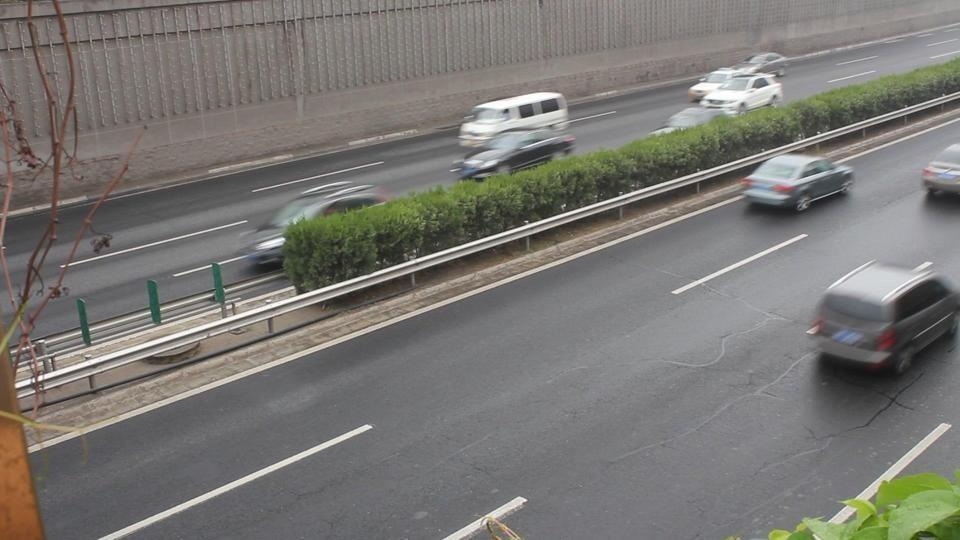car: (805, 258, 960, 377), (246, 183, 391, 272), (740, 152, 856, 213), (458, 92, 573, 153), (457, 128, 577, 181), (689, 71, 785, 116), (920, 143, 960, 198), (734, 52, 790, 80)
